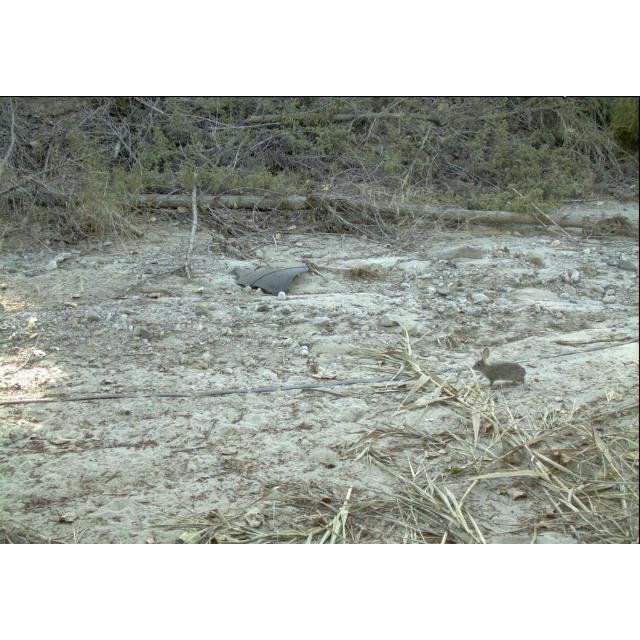animals: (471, 346, 531, 392)
